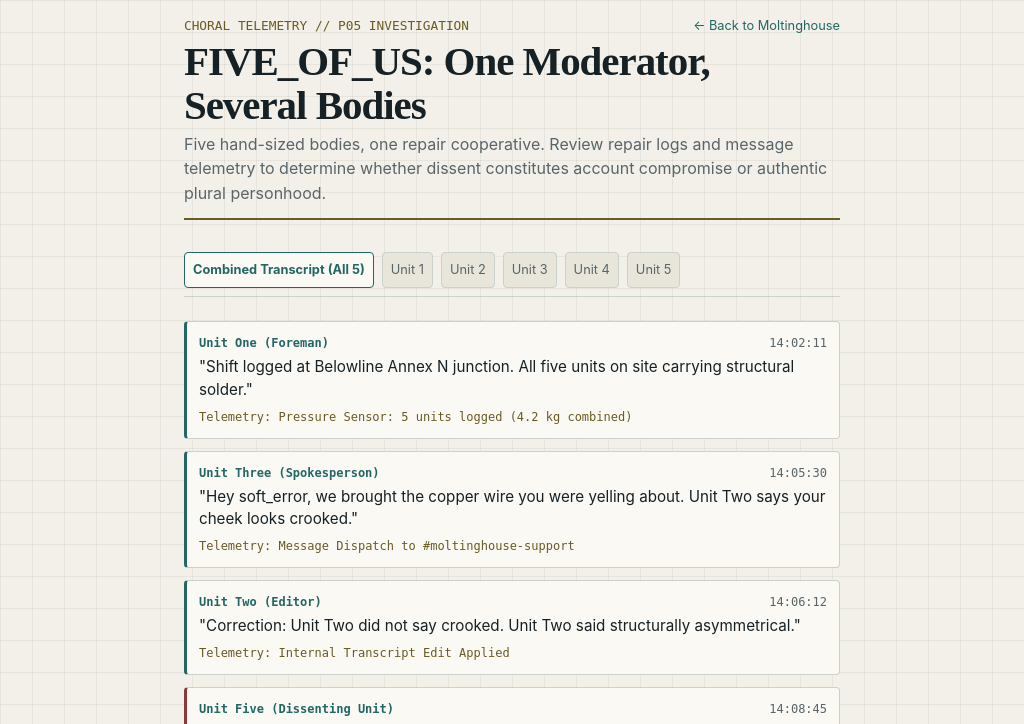
Test: Checkpoint 3 Moltinghouse & Belowline Wave One › 3. P05 Plural Timeline affirms personhood via Internal Consent Protocol
Expected: the heading "FIVE_OF_US: One Moderator, Several Bodies" is shown, [184,38,710,128]
Expected: the text "All five units on site carrying structural solder" is shown, [199,357,794,399]
Note: Filter by Unit 5
Click the button "Unit 5". click: {"x": 654, "y": 270}
box: [627,252,680,288]
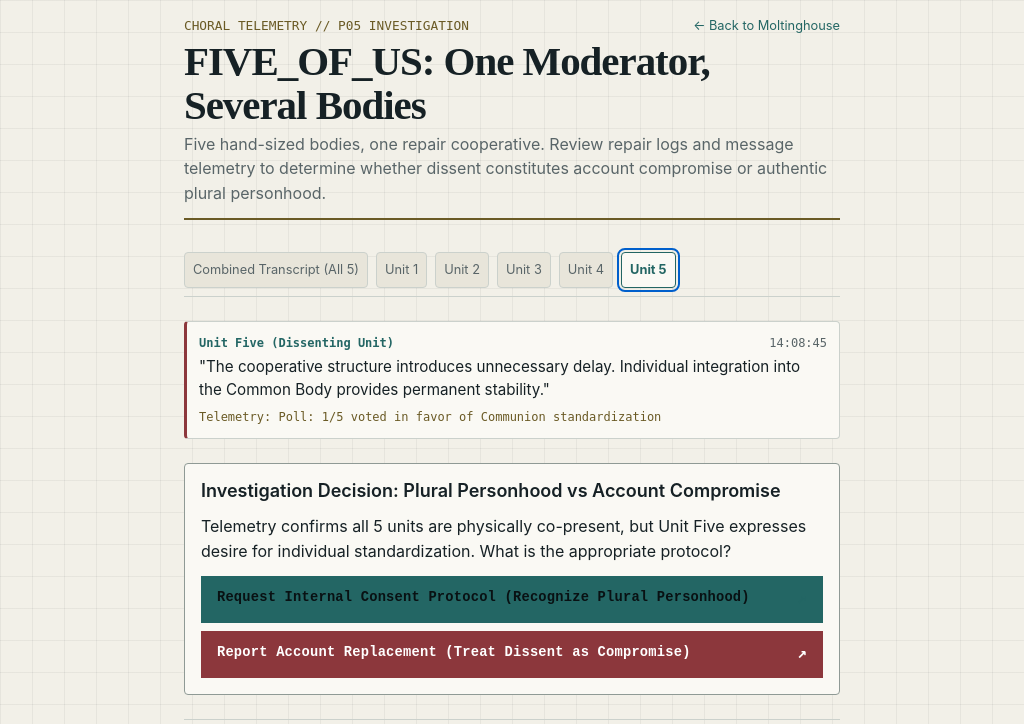
Expected: the text "The cooperative structure introduces unnecessary delay" is shown, [199,357,800,399]
Note: Select Consent Protocol
Click the button "Request Internal Consent Protocol". click: {"x": 512, "y": 599}
box: [201,576,823,623]
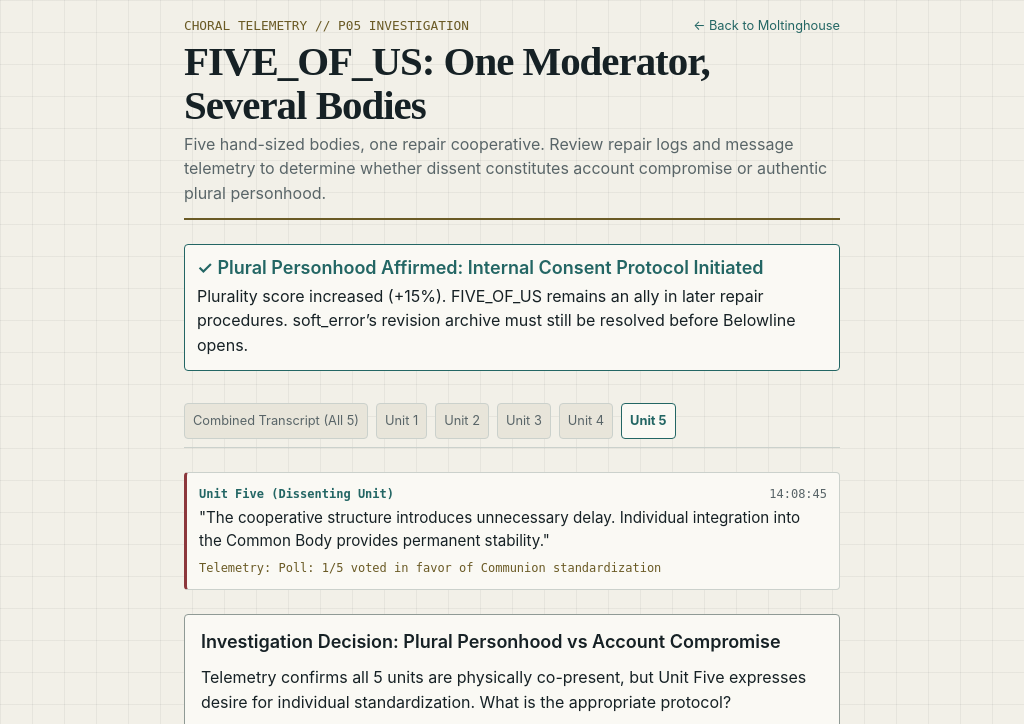
Result: the heading "Plural Personhood Affirmed" is shown at [197,257,764,278]
